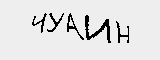А: (65, 12, 83, 39)
И: (86, 15, 111, 42)
Н: (116, 22, 132, 45)
У: (46, 13, 64, 37)
Э: (30, 12, 49, 37)
